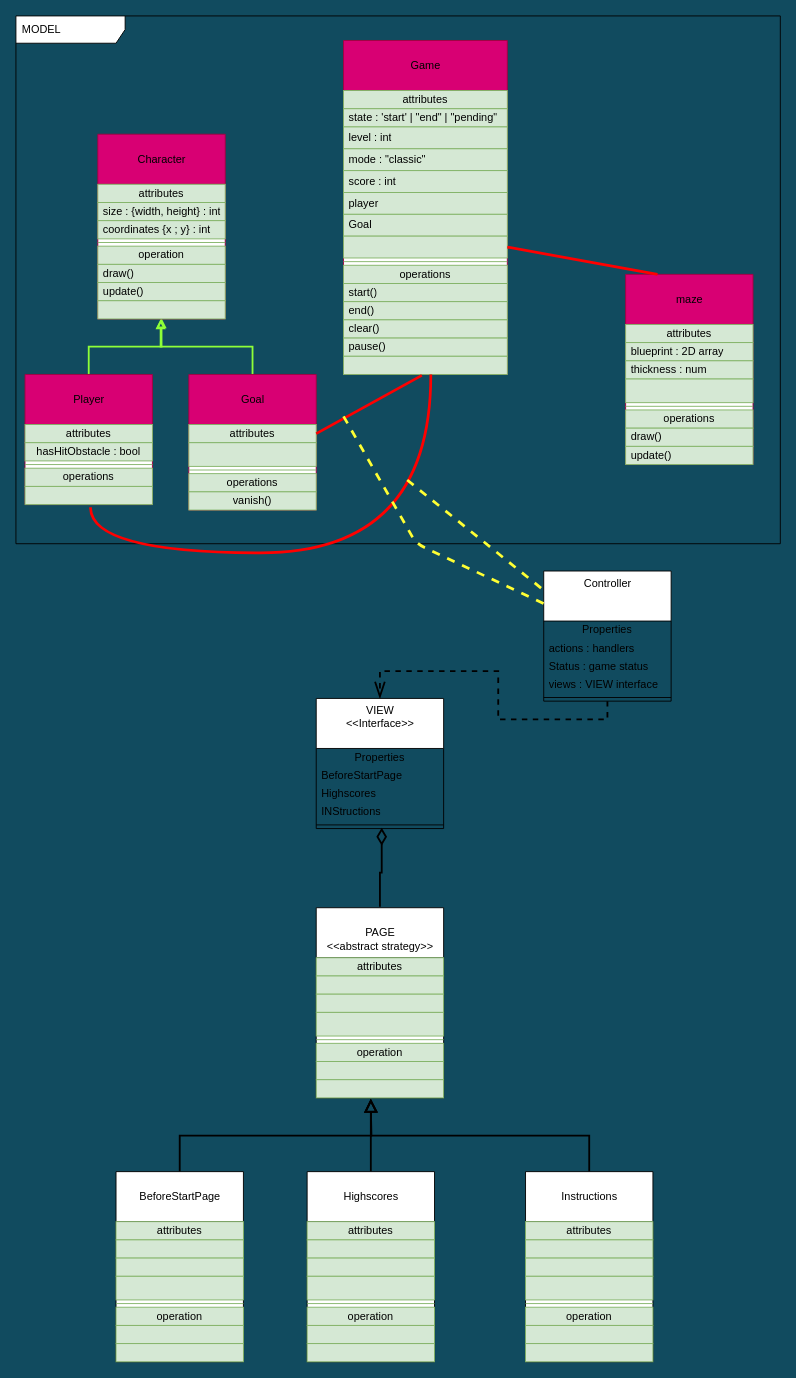
The diagram is 796 pixels wide and 1378 high, and some of its shapes have lost their labels. The centre of each missing label's shape, as x and y in pixels:
achieved : bool: (252,454)
maze : walls: (425,246)
move(): (88,495)
resume(): (425,364)
touched : bool: (689,390)
